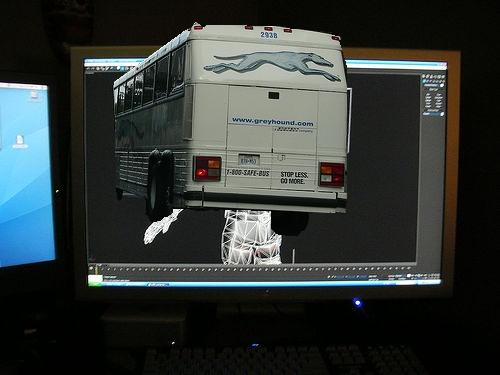tampered: (115, 23, 347, 236)
